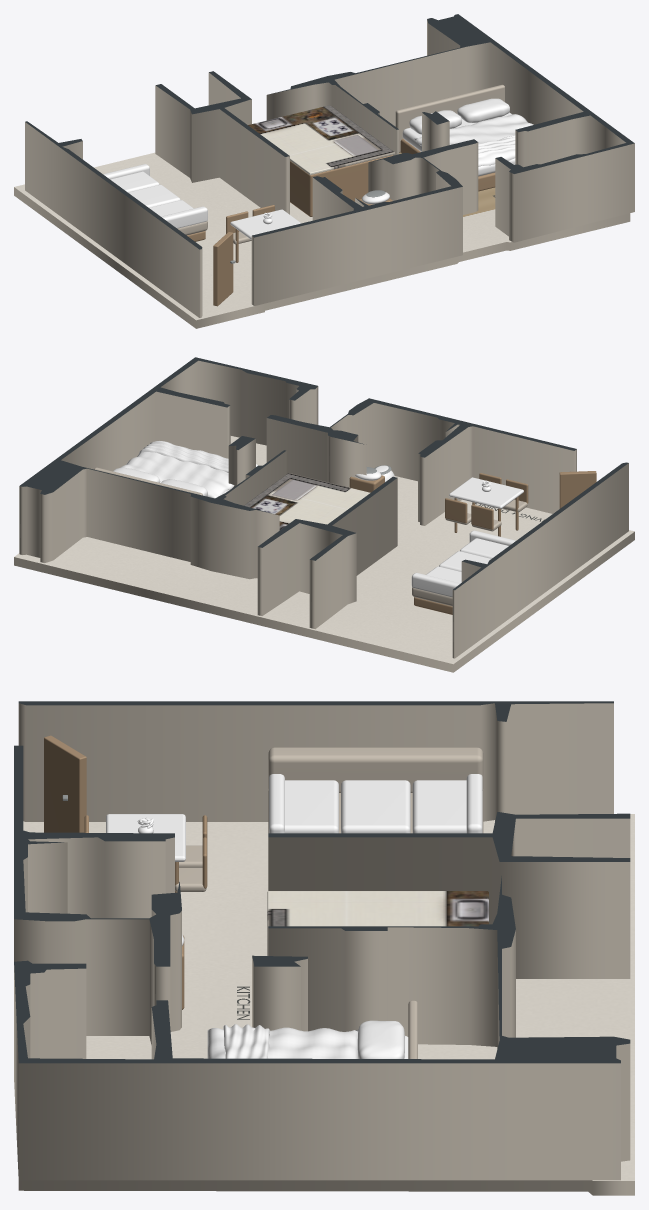
The model's file is coral-group-unit-04.glb.
The picture shows the model from 3 angles, top to bottom: view 1: azimuth 30°, elevation 25°; view 2: azimuth 150°, elevation 25°; view 3: azimuth 270°, elevation 25°; orthographic projection. The views are drawn at different scales.
Visible parts, largest first — view 1: Partition walls, Apartment floor, Stone worktop, Kitchen cabinets, Draped bed linen, Upholstered headboard, Open oak door, Marble dining top, Tailored pillow.001, Seat cushion.001, Padded armrest, Seat cushion.002 (+4 smaller); view 2: Partition walls, Apartment floor, Stone worktop, Draped bed linen, Marble dining top, Draped bed linen.001, Open oak door, Padded armrest.001, Seat cushion, Seat cushion.001, Chair back.002, Chair back.003; view 3: Partition walls, Apartment floor, Stone worktop, Sofa back, Seat cushion.001, Open oak door, Draped bed linen, Seat cushion.002, Seat cushion, Tailored pillow, Marble dining top, Draped bed linen.001 (+2 smaller).
Part boxes in pixels (<box>): Partition walls: <box>25,14,634,317</box>; Apartment floor: <box>14,152,630,328</box>; Stone worktop: <box>248,105,394,175</box>; Kitchen cabinets: <box>290,155,393,216</box>; Draped bed linen: <box>414,114,533,166</box>; Upholstered headboard: <box>395,84,504,152</box>; Open oak door: <box>213,232,233,306</box>; Marble dining top: <box>230,209,301,239</box>; Tailored pillow.001: <box>457,98,509,122</box>; Seat cushion.001: <box>128,184,180,207</box>; Padded armrest: <box>161,206,207,228</box>; Seat cushion.002: <box>110,171,159,192</box>; Partition walls: <box>19,357,628,658</box>; Apartment floor: <box>14,436,634,672</box>; Stone worktop: <box>244,473,370,530</box>; Draped bed linen: <box>120,441,258,498</box>; Marble dining top: <box>449,477,523,508</box>; Draped bed linen.001: <box>139,441,228,472</box>; Open oak door: <box>559,471,596,508</box>; Padded armrest.001: <box>411,572,460,597</box>; Seat cushion: <box>460,538,508,558</box>; Seat cushion.001: <box>439,551,490,571</box>; Chair back.002: <box>471,504,493,529</box>; Chair back.003: <box>445,498,467,523</box>; Partition walls: <box>14,701,630,1180</box>; Apartment floor: <box>18,814,634,1195</box>; Stone worktop: <box>267,891,488,955</box>; Sofa back: <box>268,747,483,792</box>; Seat cushion.001: <box>341,780,410,833</box>; Open oak door: <box>44,735,86,832</box>; Draped bed linen: <box>207,1027,358,1058</box>; Seat cushion.002: <box>412,780,466,833</box>; Seat cushion: <box>285,780,338,833</box>; Tailored pillow: <box>357,1020,404,1058</box>; Marble dining top: <box>106,814,185,861</box>; Draped bed linen.001: <box>223,1024,269,1058</box>.
Bounding box in the file's own units: 8.62 × 1.44 × 6.17.
12 materials, 2 textured.
